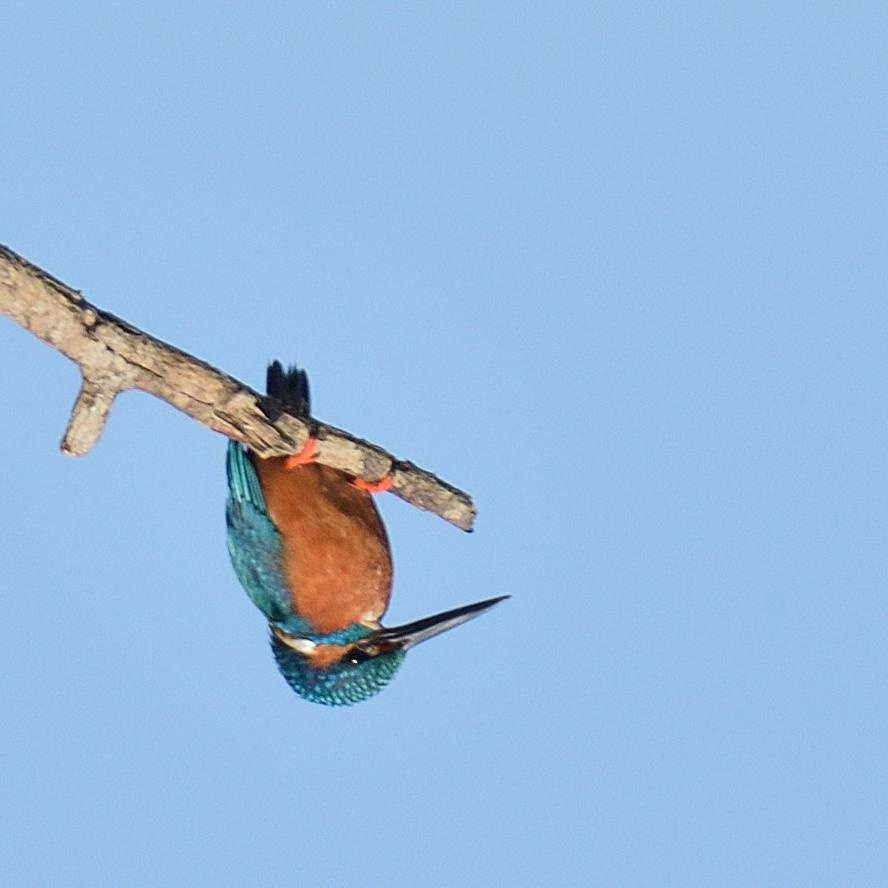kingfisher: (192, 356, 505, 747)
